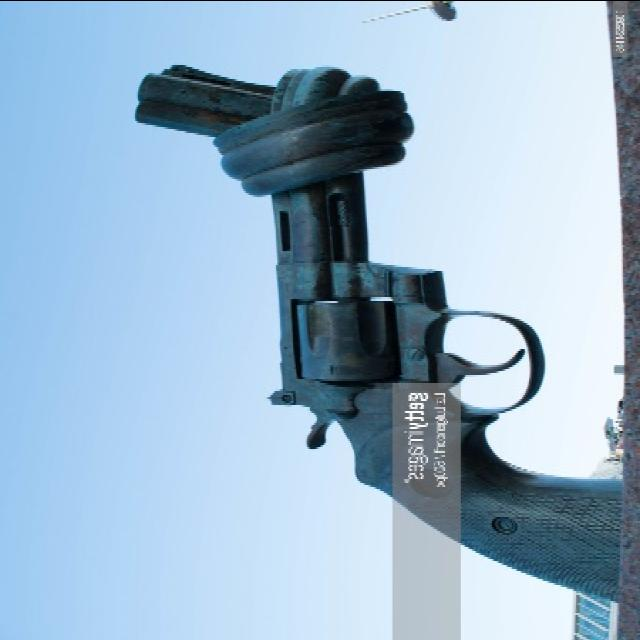handgun: (128, 55, 623, 613)
